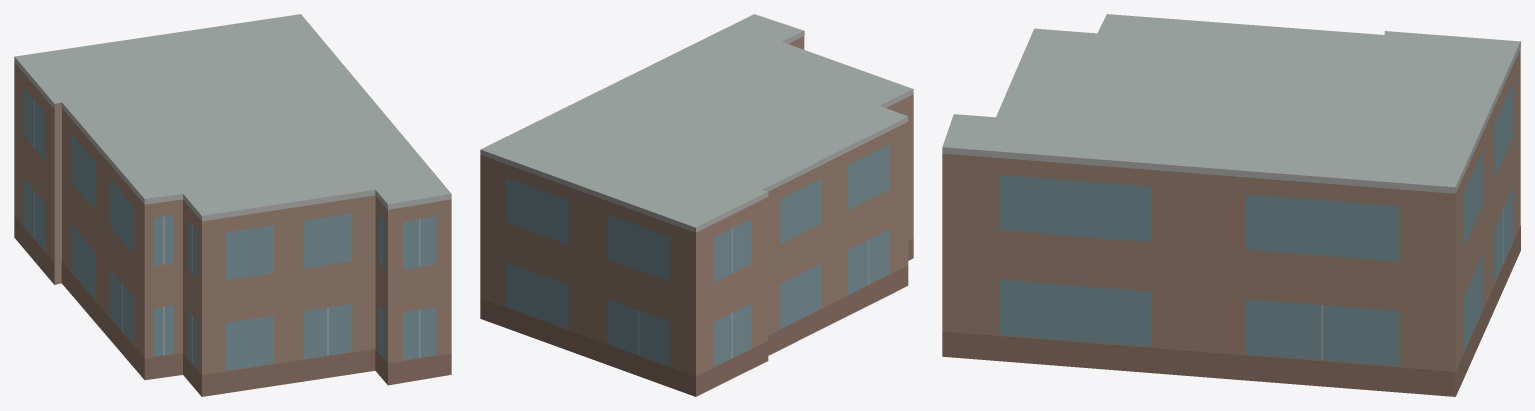
File: survey-upis-32468252.glb
The picture shows the model from 3 angles, left to right: view 1: azimuth 30°, elevation 25°; view 2: azimuth 150°, elevation 25°; view 3: azimuth 270°, elevation 25°; orthographic projection. The views are drawn at different scales.
Visible parts, largest first — view 1: survey-upis-32468252.tmp; view 2: survey-upis-32468252.tmp; view 3: survey-upis-32468252.tmp.
Part boxes in pixels (x1=…): survey-upis-32468252.tmp: x1=14, y1=14, x2=451, y2=396; survey-upis-32468252.tmp: x1=480, y1=14, x2=913, y2=396; survey-upis-32468252.tmp: x1=942, y1=14, x2=1520, y2=396.
Size of the model in its own units: 14.12 by 7.95 by 19.9.
